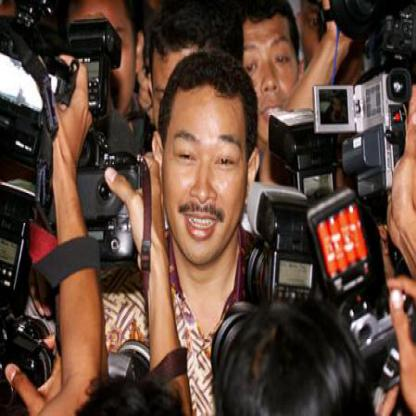face: (163, 54, 252, 265), (236, 1, 302, 144)
